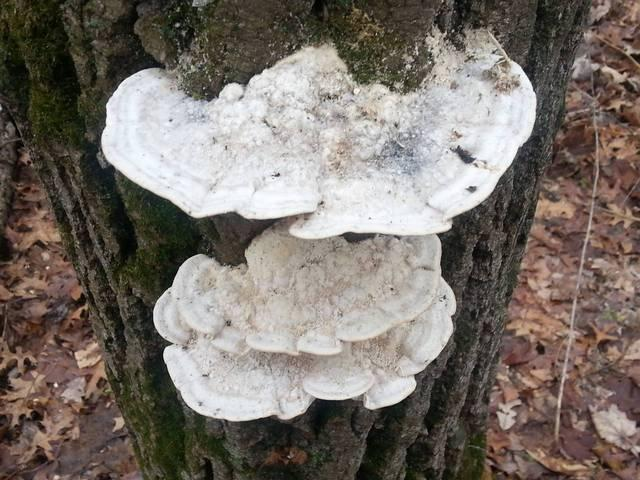Non-edible Mushroom: (98, 23, 538, 423)
